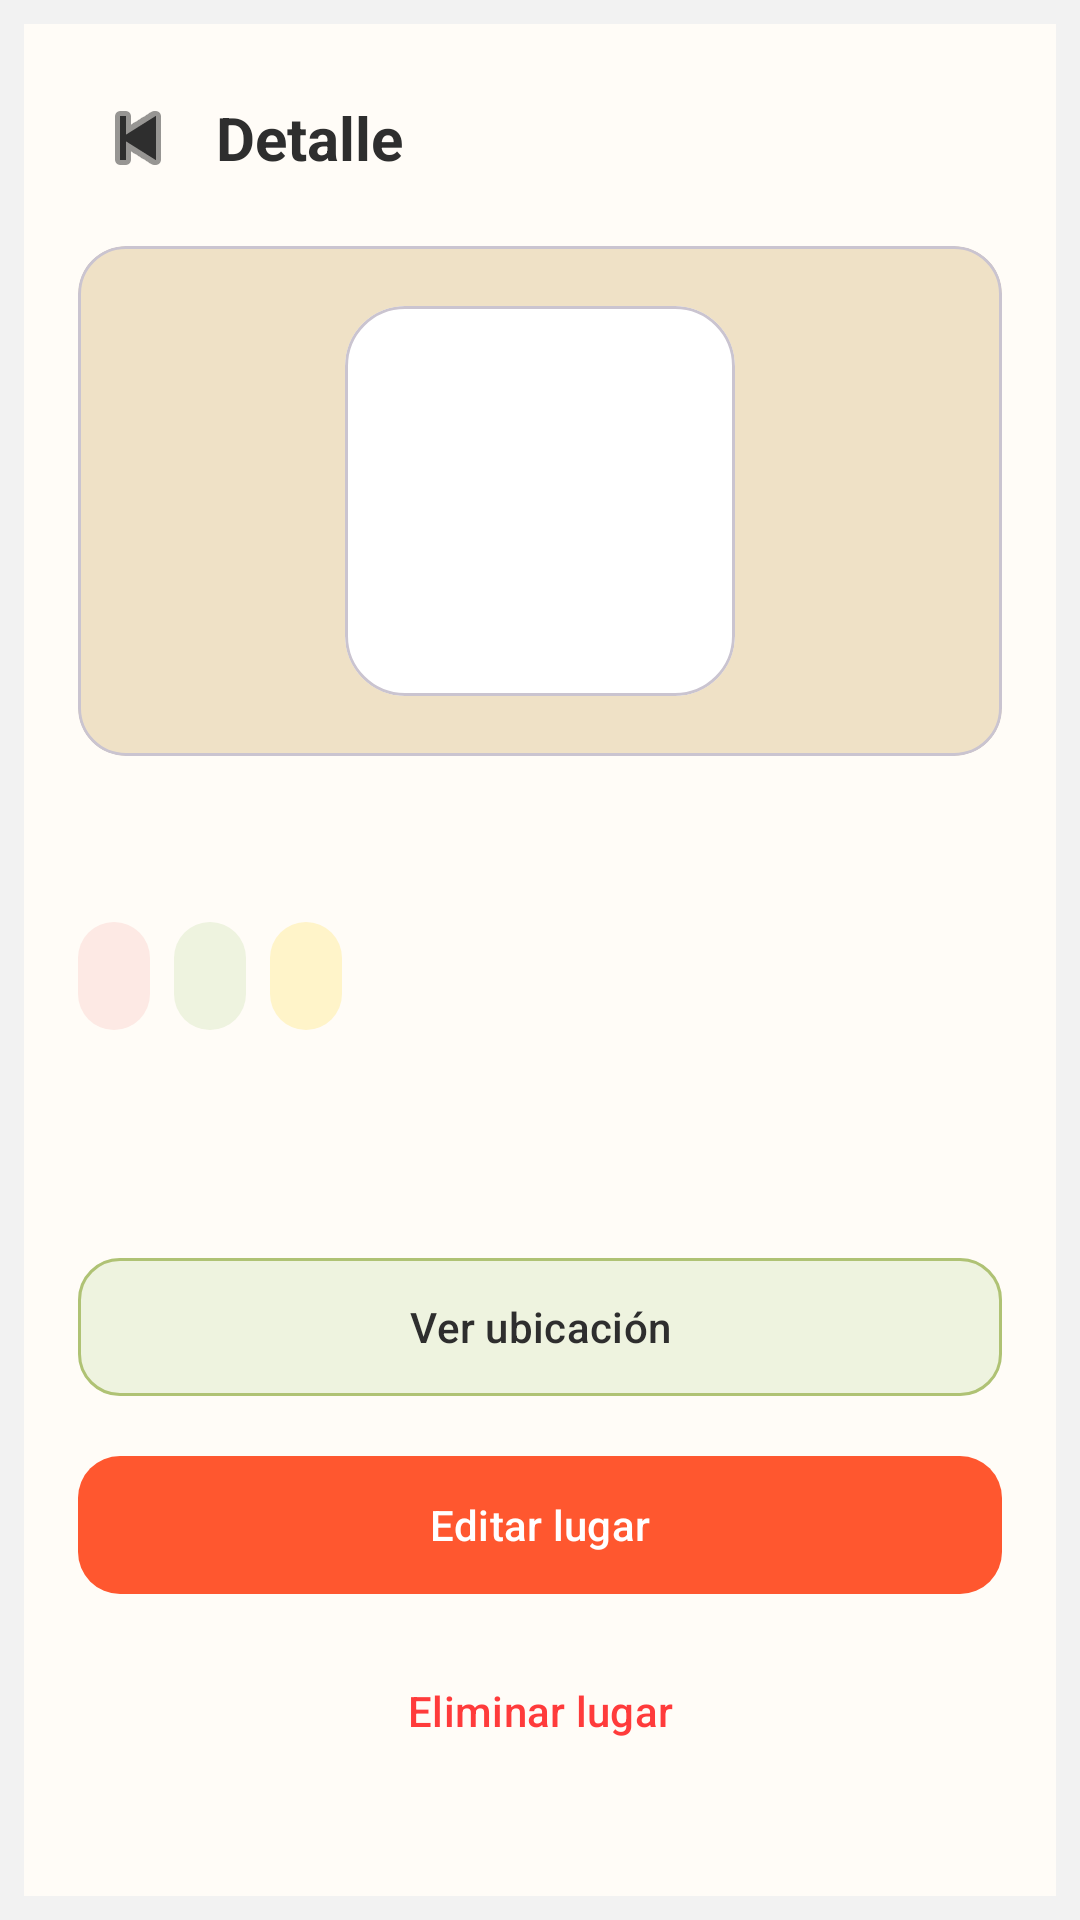

Screen size 1080*1920. Icon name, then its box in pixels as (x1, y1, x2, y2):
Regresar: (115, 111, 161, 165)
